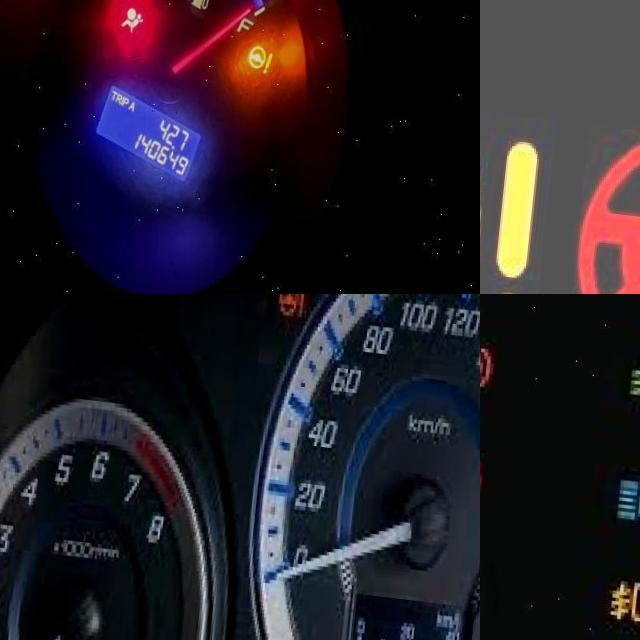Electronic Power Steering: (480, 71, 554, 294), (575, 112, 640, 294), (273, 294, 312, 313)
Electronic Power Steering Warning: (248, 34, 282, 65)
